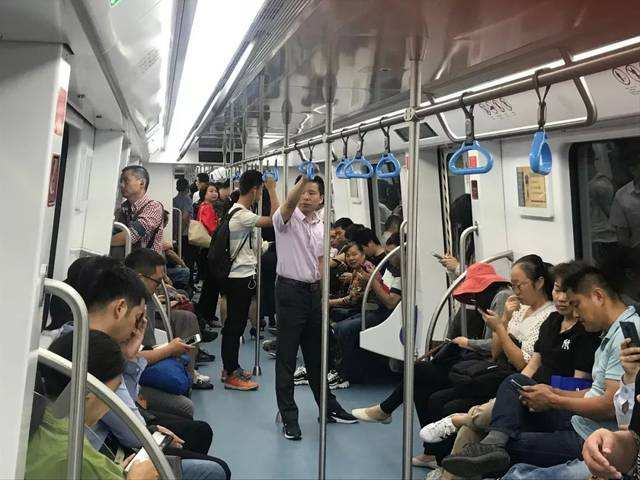Mobile-phone: (120, 422, 174, 475), (617, 319, 640, 351), (469, 296, 493, 318), (511, 375, 528, 395), (433, 249, 448, 262)
